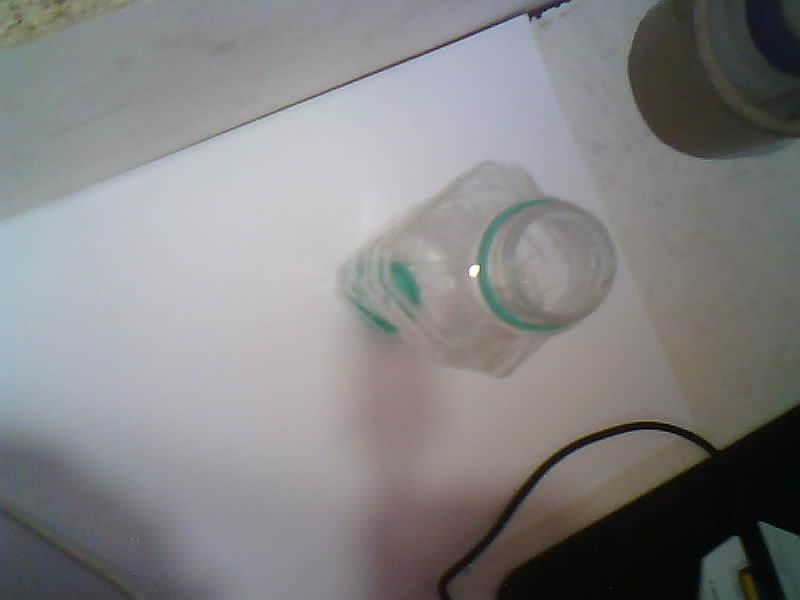non-biodegradable: (340, 161, 616, 376)
